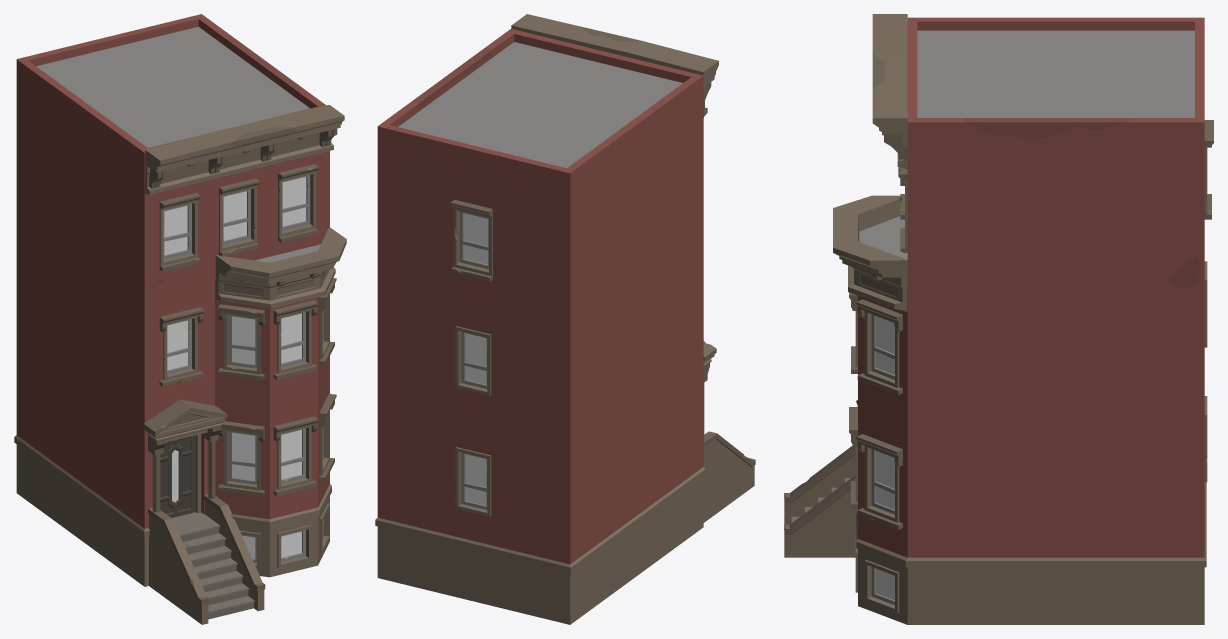
The model's file is SM_Bldg_City_Apartment_T3_3Floor.fbx.
The picture shows the model from 3 angles, left to right: view 1: azimuth 30°, elevation 25°; view 2: azimuth 150°, elevation 25°; view 3: azimuth 270°, elevation 25°; orthographic projection. The views are drawn at different scales.
Visible parts, largest first — view 1: SM_Bldg_City_Apartment_T3_3Floor, SM_Bldg_City_Apartment_T3_3Floor_Glass, SM_Bldg_City_Apartment_T3_3Floor_Door; view 2: SM_Bldg_City_Apartment_T3_3Floor, SM_Bldg_City_Apartment_T3_3Floor_Glass; view 3: SM_Bldg_City_Apartment_T3_3Floor, SM_Bldg_City_Apartment_T3_3Floor_Glass.
Boxes of the visible parts, x1,y1,x2,y2 form: SM_Bldg_City_Apartment_T3_3Floor: [14, 14, 346, 624]; SM_Bldg_City_Apartment_T3_3Floor_Glass: [164, 177, 306, 558]; SM_Bldg_City_Apartment_T3_3Floor_Door: [160, 435, 195, 517]; SM_Bldg_City_Apartment_T3_3Floor: [375, 14, 755, 624]; SM_Bldg_City_Apartment_T3_3Floor_Glass: [463, 213, 488, 505]; SM_Bldg_City_Apartment_T3_3Floor: [784, 14, 1213, 624]; SM_Bldg_City_Apartment_T3_3Floor_Glass: [876, 316, 894, 600].
Size of the model in its own units: 509 by 1131 by 867.
